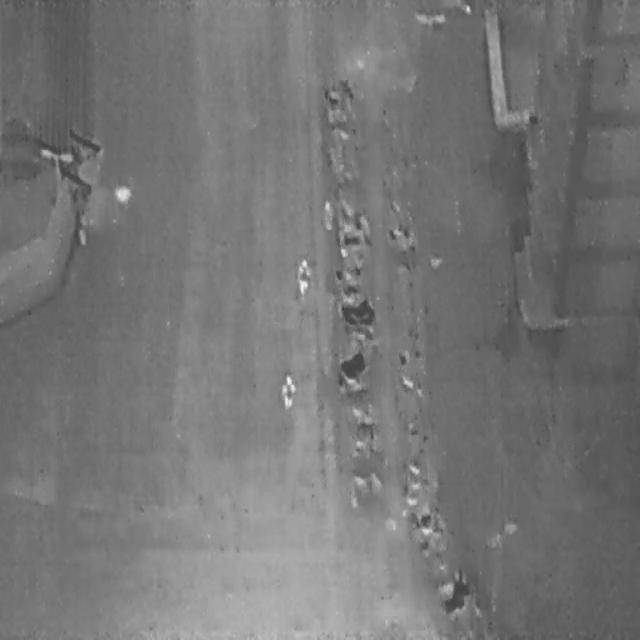Bicycle: (433, 569, 477, 621), (333, 192, 375, 238), (316, 73, 356, 115), (403, 502, 443, 540), (334, 345, 370, 385), (337, 295, 376, 329), (345, 430, 379, 464), (330, 264, 360, 298), (344, 402, 377, 432), (347, 468, 381, 494), (384, 222, 416, 246), (337, 229, 365, 250)
Person: (279, 370, 295, 411), (296, 255, 311, 296), (320, 196, 334, 234)
